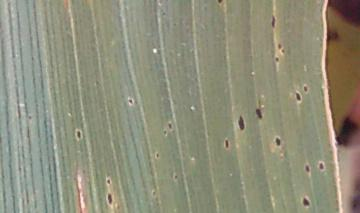tarspot: (236, 113, 246, 132), (301, 194, 311, 208), (294, 90, 303, 105), (105, 191, 114, 206), (273, 136, 282, 149), (317, 160, 326, 172), (254, 106, 263, 118), (74, 129, 83, 141), (270, 12, 276, 29), (222, 137, 230, 149), (303, 162, 311, 173), (273, 55, 281, 64), (126, 97, 134, 106), (170, 20, 178, 29), (302, 83, 309, 93), (166, 120, 173, 130), (161, 128, 169, 136), (105, 177, 112, 186), (154, 151, 161, 159), (93, 79, 100, 87), (276, 41, 282, 50), (173, 173, 179, 182), (151, 189, 157, 198), (26, 114, 33, 121), (279, 47, 285, 55), (160, 10, 166, 17), (157, 1, 164, 7), (216, 1, 225, 5)
